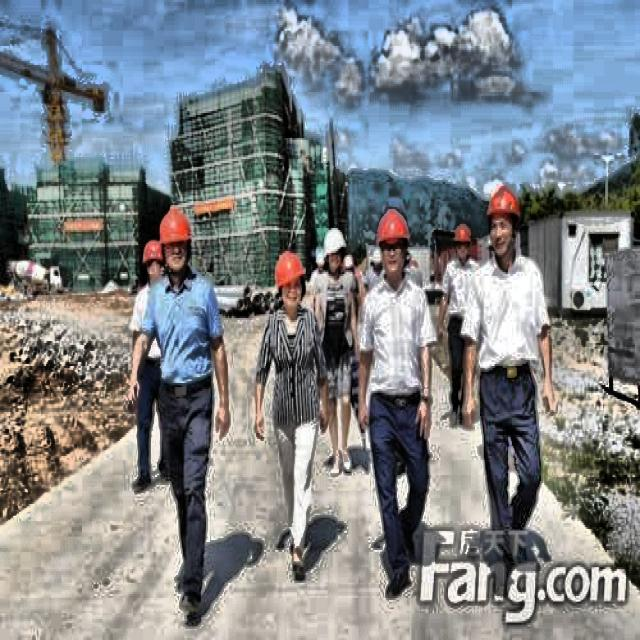helmet: (484, 182, 523, 261), (375, 207, 413, 284), (158, 205, 195, 276), (272, 247, 308, 316), (136, 236, 162, 295), (321, 224, 348, 280), (449, 215, 475, 266)
